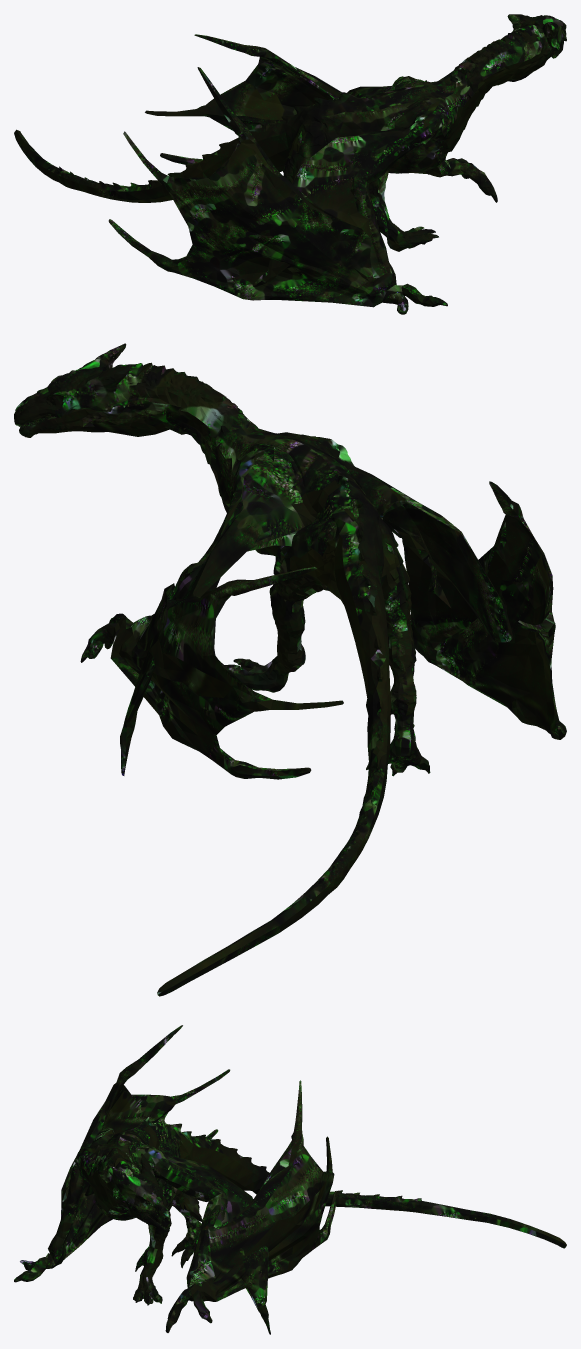
Rendered from frame_0041_uv.obj.
The picture shows the model from 3 angles, top to bottom: view 1: azimuth 30°, elevation 25°; view 2: azimuth 150°, elevation 25°; view 3: azimuth 270°, elevation 25°; orthographic projection. The views are drawn at different scales.
Parts seen in each view (by area): view 1: pMesh1; view 2: pMesh1; view 3: pMesh1.
Boxes of the visible parts, <box> form: pMesh1: <box>14,14,566,314</box>; pMesh1: <box>14,343,566,996</box>; pMesh1: <box>14,1025,566,1334</box>.
Bounding box in the file's own units: 1.6 × 0.8387 × 1.98.
